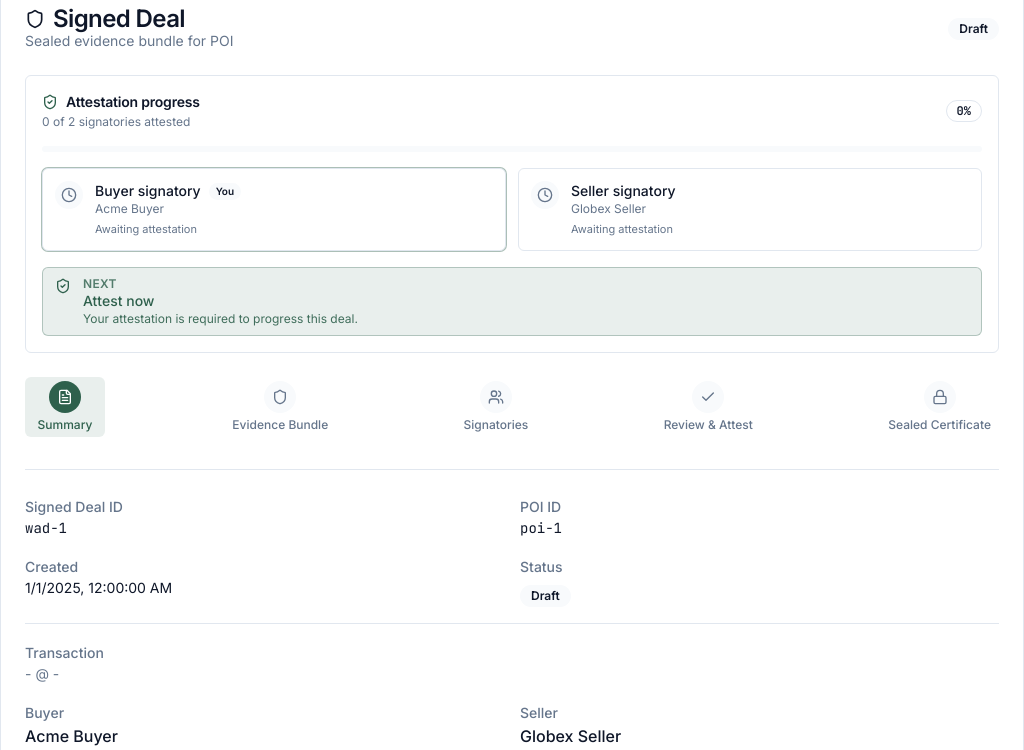
Test: Attest error a11y › does not steal focus on unrelated re-renders while the same error is shown
Later steps or results of the test are not shown.
Click the button "Review & Attest": (708, 407) [656,377,761,437]
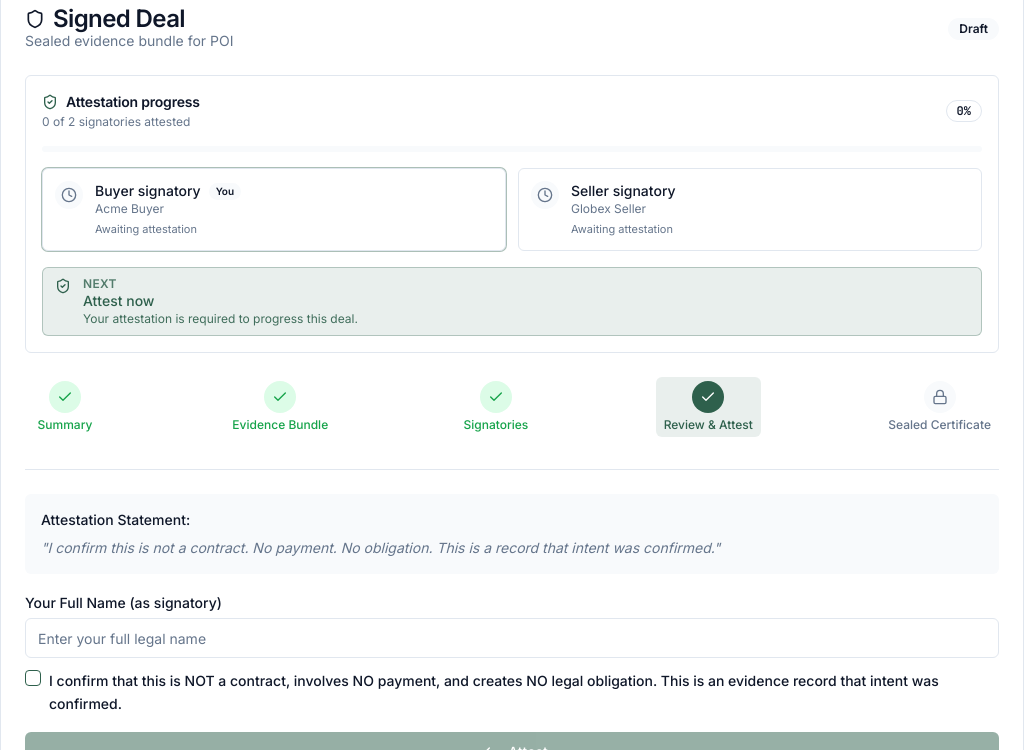
In the field labelled "Your Full Name (as signatory)": (512, 638) [25,618,999,658], type "Jane Doe"
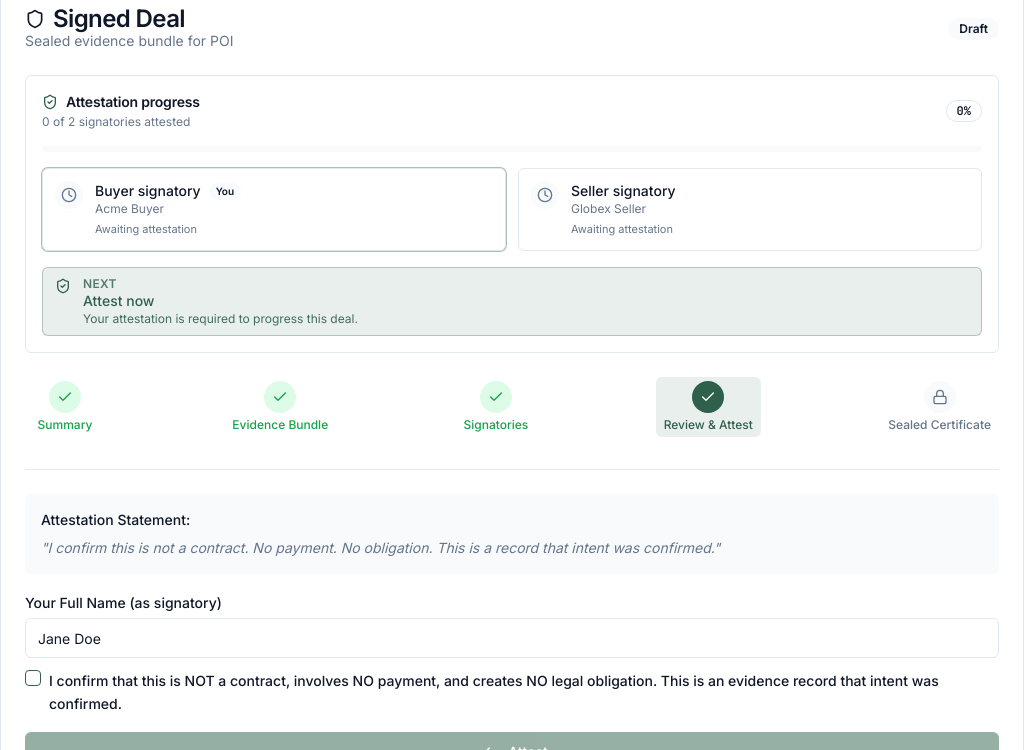
Click the checkbox named "i confirm that this is not a contract": (33, 678) [25,670,41,686]
(page scrolled)
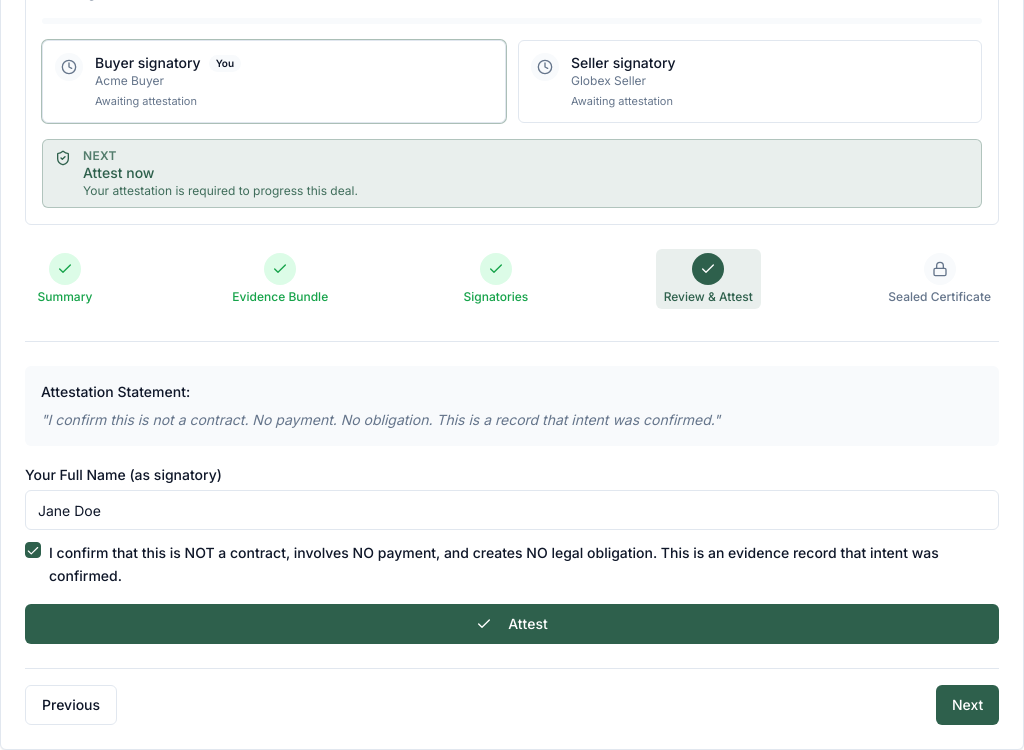
Click the button with test id "attest-submit-button": (512, 624) [25,604,999,644]
(page scrolled)
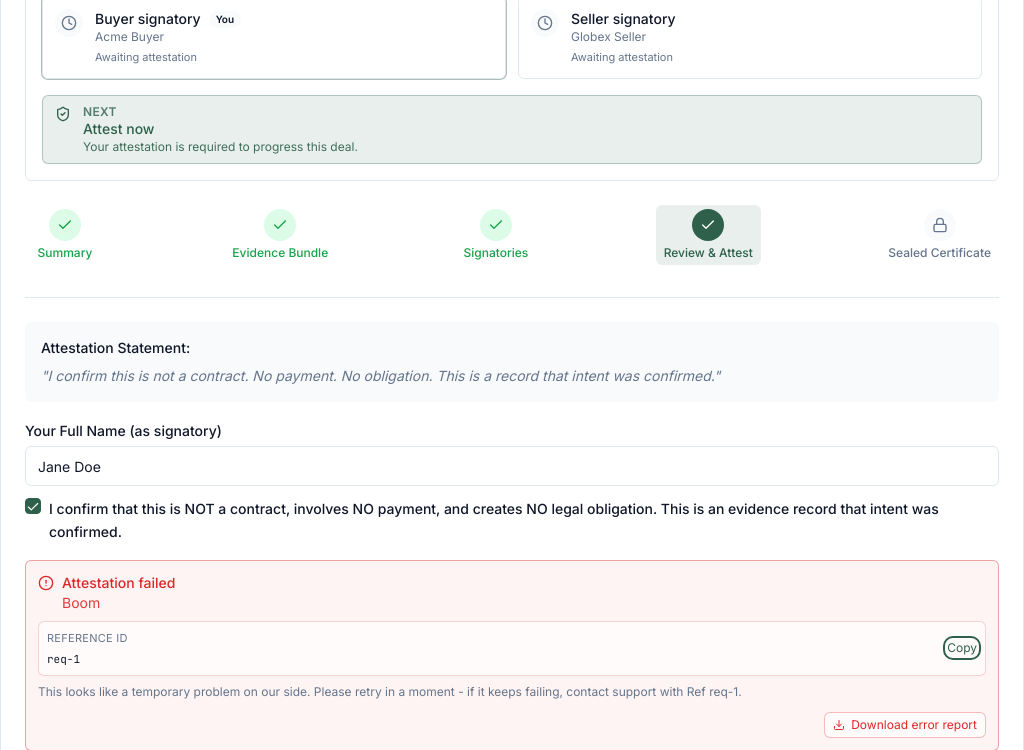
Check: the message with test id "attest-error-alert" is shown, box [25,560,999,749]
